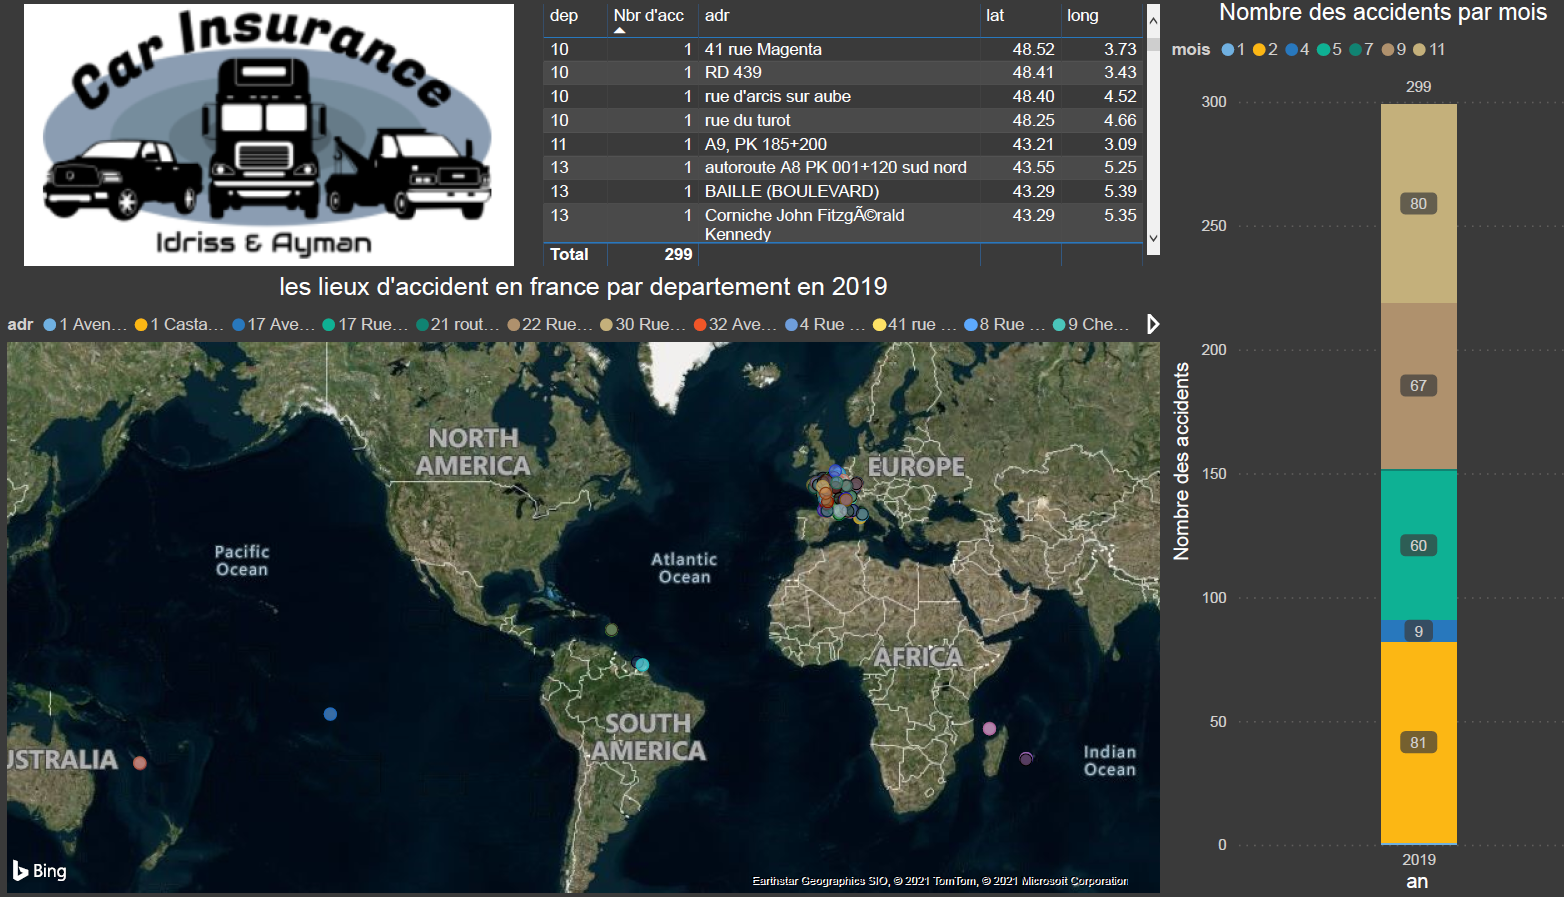

This screenshot's page, from the dashboard's own definition file:
{"tool":"powerbi","page":{"name":"Page 1","canvas":[1280,720],"ordinal":0},"visuals":[{"type":"map","title":"les lieux d''accident en france par departement en 2019","fields":{"Y":["caracteristiques-2019.lat"],"X":["caracteristiques-2019.long"],"Series":["caracteristiques-2019.adr"]},"box":[0,219.1,931.3,501],"z":0},{"type":"lineStackedColumnComboChart","title":"Nombre des accidents par  mois","fields":{"Category":["caracteristiques-2019.an"],"Series":["caracteristiques-2019.mois"],"Y":["caracteristiques-2019.Num_Acc"]},"box":[931.3,0,348.7,720.1],"z":1000},{"type":"tableEx","fields":{"Values":["caracteristiques-2019.dep","caracteristiques-2019.Num_Acc","caracteristiques-2019.adr","caracteristiques-2019.lat","caracteristiques-2019.long"]},"box":[428.3,0,503,219.1],"z":2000},{"type":"image","box":[0,0,428.3,219.1],"z":2001}]}

Visuals, with their boxes in screenshot pixels (x1, y1, x2, y2), scaled from the page's 1280x720 canvas onto the 1564x897 screenshot:
"les lieux d''accident en france par departement en 2019" map: [x1=0, y1=273, x2=1138, y2=896]
"Nombre des accidents par  mois" lineStackedColumnComboChart: [x1=1138, y1=0, x2=1563, y2=896]
tableEx - caracteristiques-2019.dep x caracteristiques-2019.Num_Acc: [x1=523, y1=0, x2=1138, y2=273]
image: [x1=0, y1=0, x2=523, y2=273]
